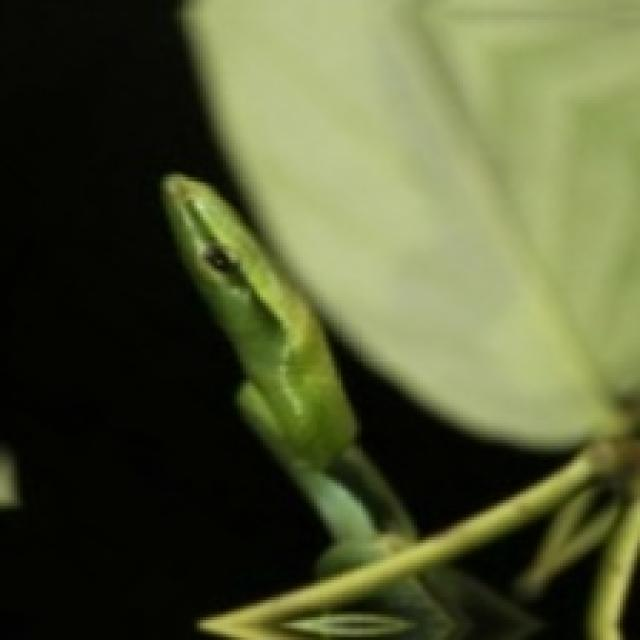red-tailed green ratsnake: (163, 174, 411, 571)
